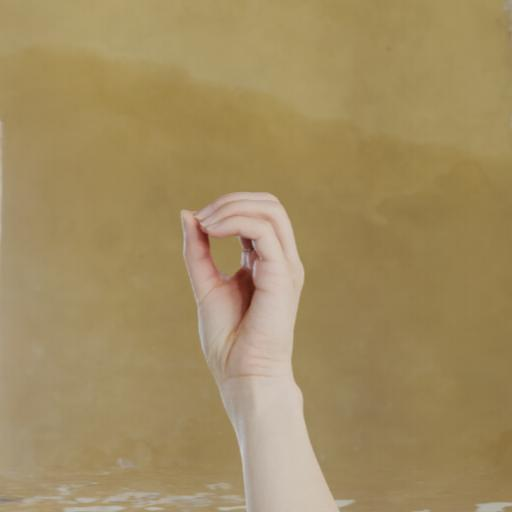O: (163, 161, 332, 424)
